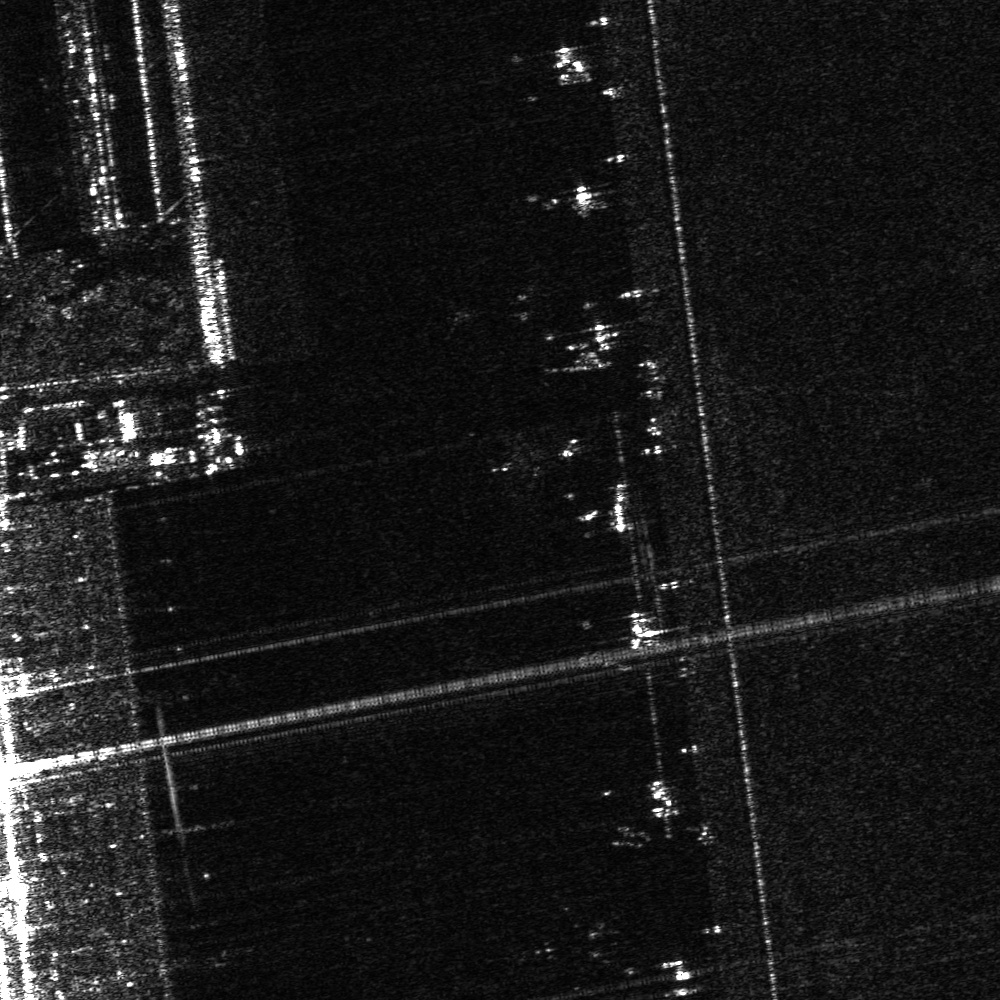A220: (482, 427, 568, 501)
Boeing787: (507, 889, 634, 999)
